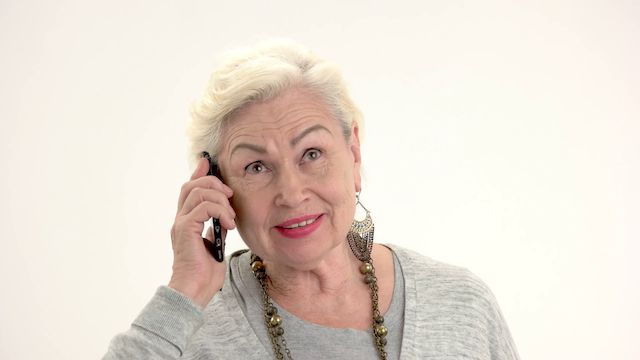phone: (191, 166, 228, 265)
talk: (166, 119, 356, 289)
